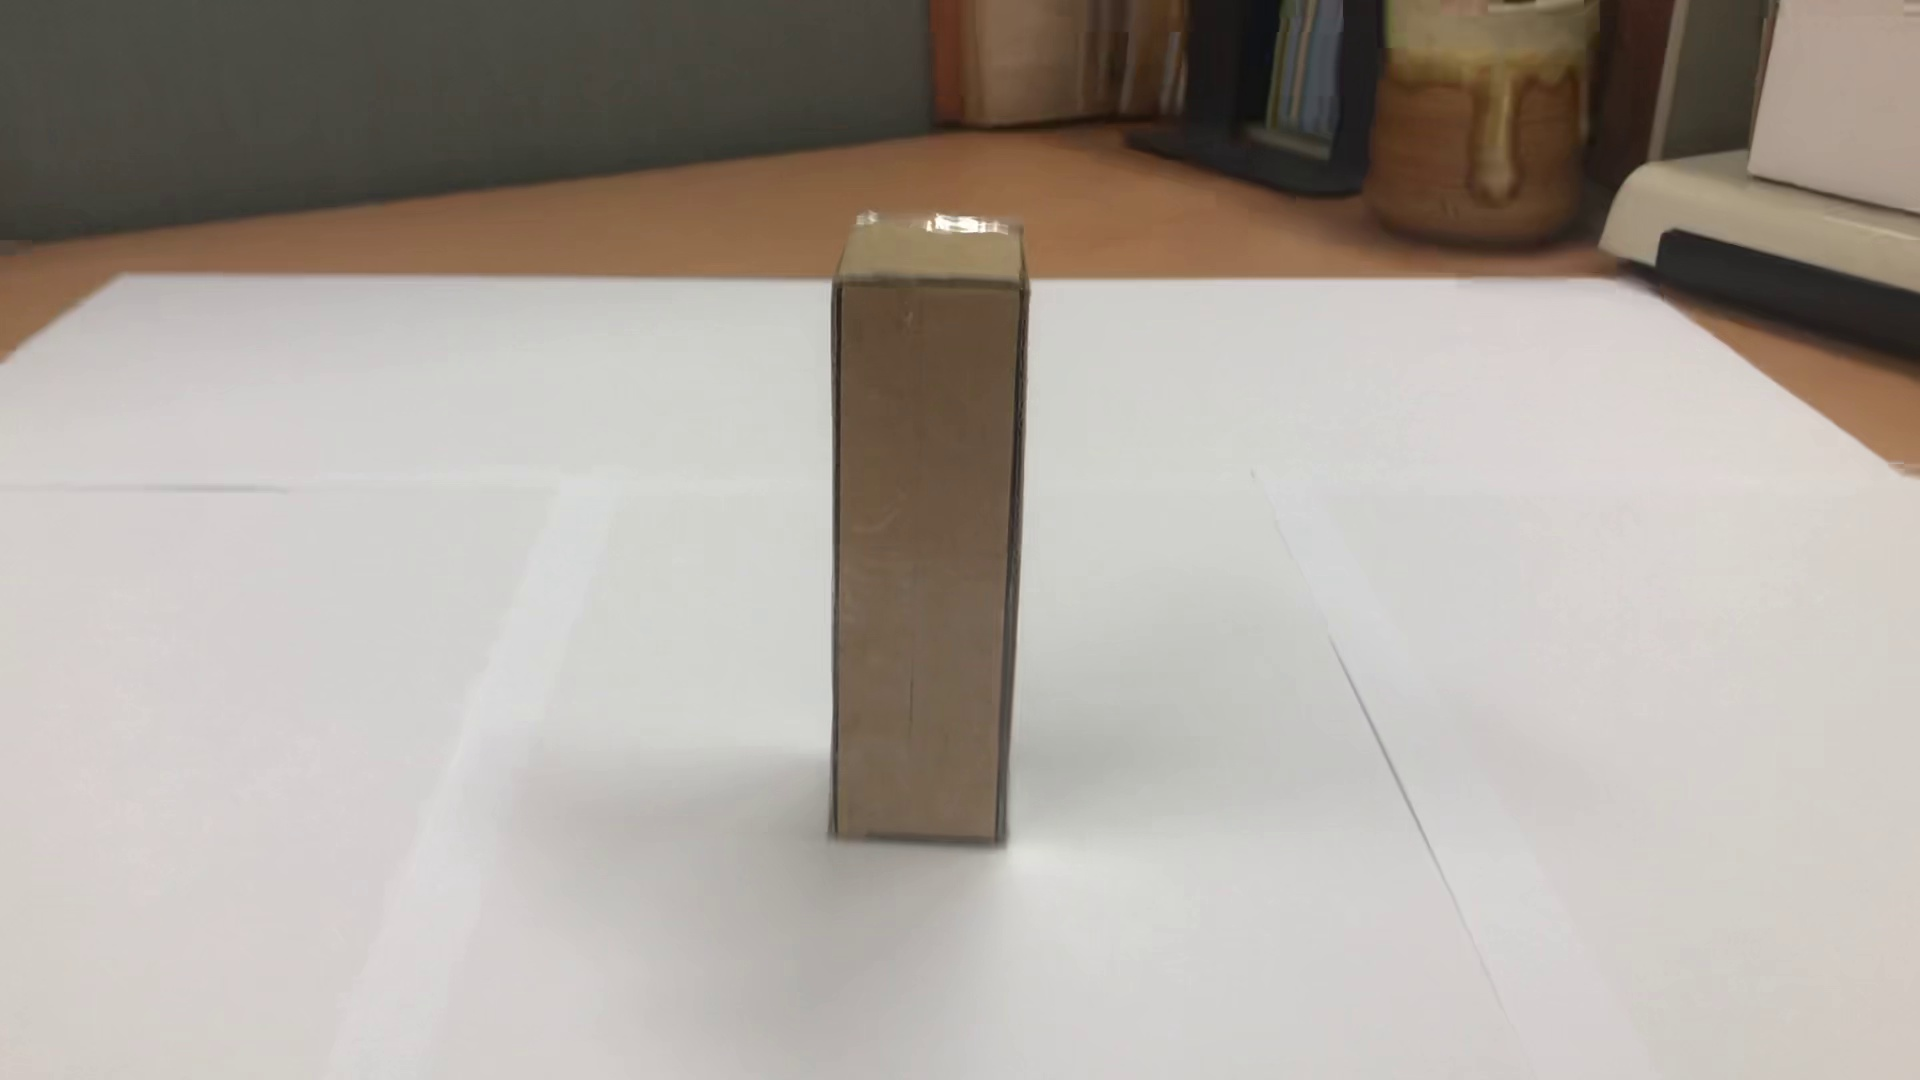box: (781, 189, 1076, 856)
